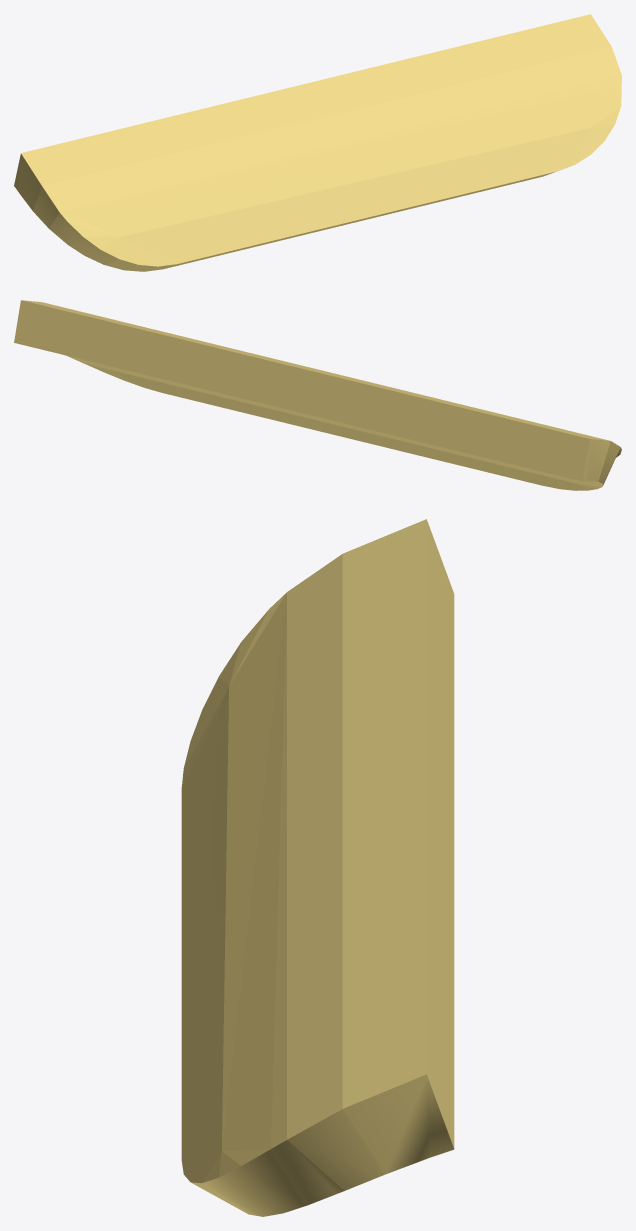
Rendered from link_finger_nail.glb.
3 renders of one model, top to bottom at view 1: azimuth 30°, elevation 25°; view 2: azimuth 150°, elevation 25°; view 3: azimuth 270°, elevation 25°, orthographic. The views are drawn at different scales.
Visible parts, largest first — view 1: link_finger_nail.3obj; view 2: link_finger_nail.3obj; view 3: link_finger_nail.3obj.
Boxes of the visible parts, left/top/right/bottom form: link_finger_nail.3obj: left=14, top=14, right=621, bottom=271; link_finger_nail.3obj: left=14, top=300, right=621, bottom=490; link_finger_nail.3obj: left=181, top=519, right=454, bottom=1216.
Size of the model in its own units: 0.015 by 0.00263 by 0.00311.
